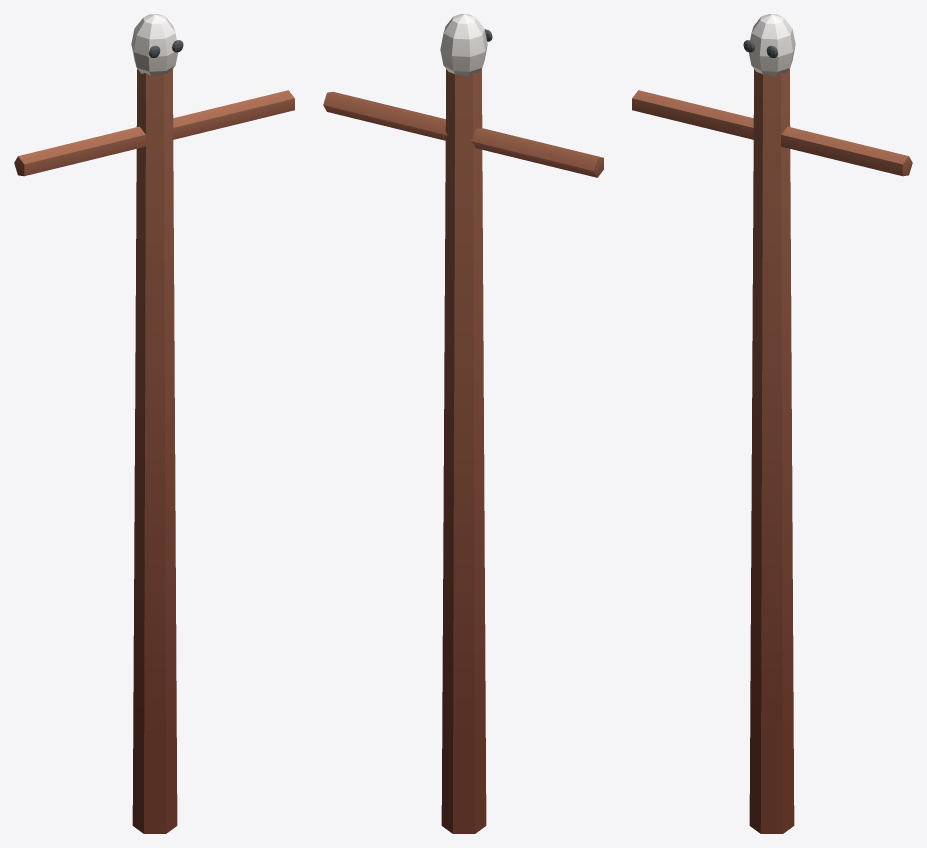
The model's file is banner_pole.glb.
The picture shows the model from 3 angles, left to right: view 1: azimuth 30°, elevation 25°; view 2: azimuth 150°, elevation 25°; view 3: azimuth 330°, elevation 25°; orthographic projection.
Parts seen in each view (by area): view 1: banner_pole; view 2: banner_pole; view 3: banner_pole.
Boxes of the visible parts, x1,y1,x2,y2 form: banner_pole: (14, 14, 294, 833); banner_pole: (323, 14, 603, 833); banner_pole: (632, 14, 912, 833).
Bounding box in the file's own units: 1.4 × 4.01 × 0.225.
1 material, 1 textured.
